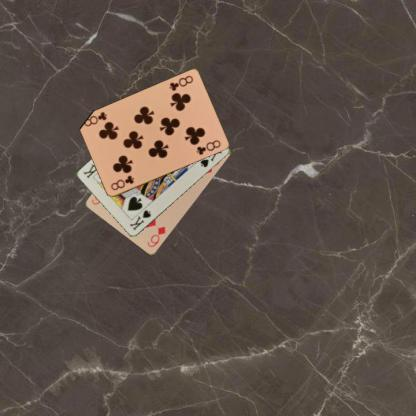6d: (145, 224, 166, 249)
8c: (108, 173, 135, 192), (167, 74, 194, 92)
Ks: (127, 207, 152, 232)
